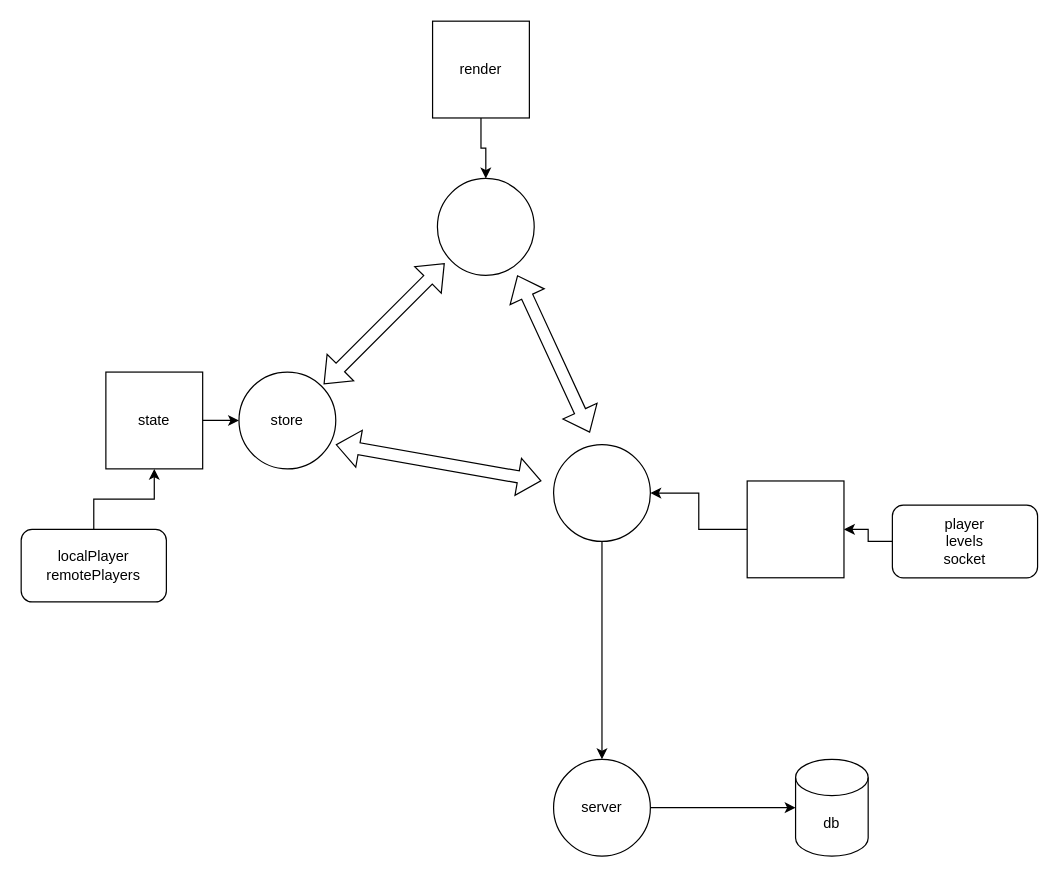
Image size: 1059x877. Some labels were removed from this diagram. The box of each missing label's shape, as (x1, y1, x2, y2) in pixels:
controller: (552, 443, 650, 541)
models: (746, 480, 844, 578)
scene: (436, 177, 534, 275)
